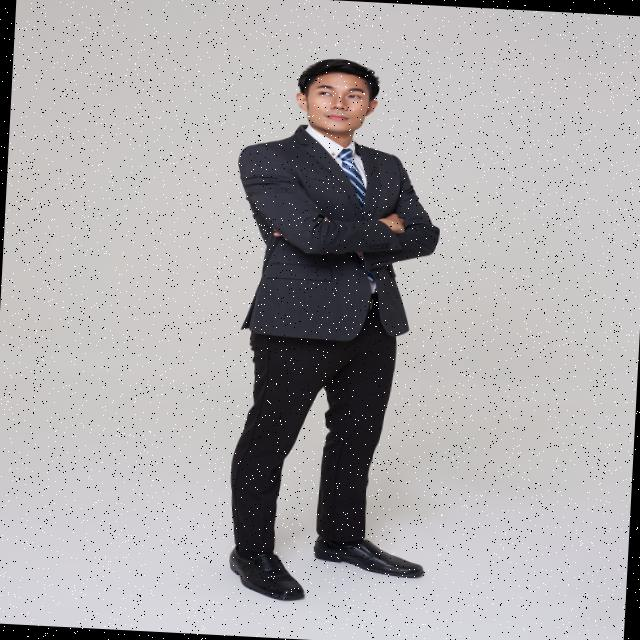Person: (216, 54, 452, 609)
